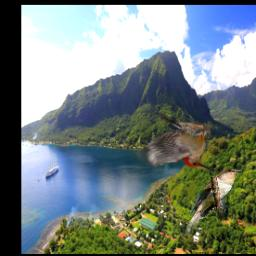Cuckoo: (181, 168, 242, 240)
Woodpecker: (134, 116, 211, 171)
